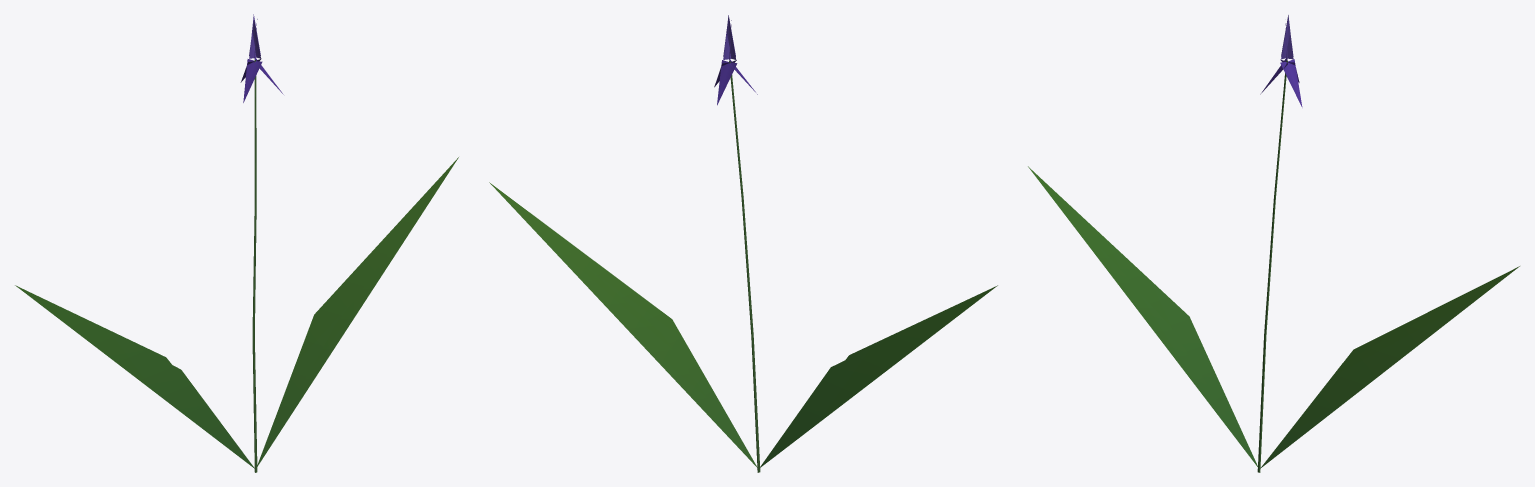
Rendered from flower-iris-a.lod1.glb.
3 views of the same model, side by side, from view 1: azimuth 30°, elevation 25°; view 2: azimuth 150°, elevation 25°; view 3: azimuth 330°, elevation 25° (orthographic). The views are drawn at different scales.
Visible parts, largest first — view 1: flower-iris-a.lod1; view 2: flower-iris-a.lod1; view 3: flower-iris-a.lod1.
Part boxes in pixels (bbox=[...]): flower-iris-a.lod1: bbox=[15, 14, 458, 472]; flower-iris-a.lod1: bbox=[489, 15, 997, 472]; flower-iris-a.lod1: bbox=[1028, 15, 1519, 472].
Size of the model in its own units: 0.8592 by 0.7819 by 0.1069.
